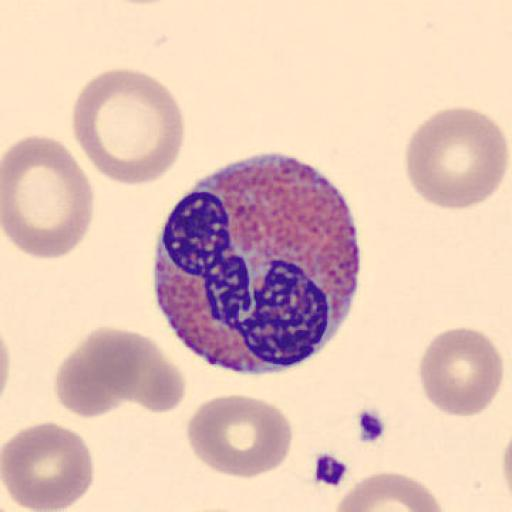RBC: (70, 66, 186, 188), (2, 132, 95, 260), (403, 105, 510, 211), (186, 392, 295, 480), (2, 420, 96, 512), (54, 325, 142, 420), (416, 325, 504, 418), (107, 326, 187, 414), (332, 469, 446, 512), (500, 430, 512, 512), (0, 326, 11, 405)
WBC: (149, 156, 364, 376)
